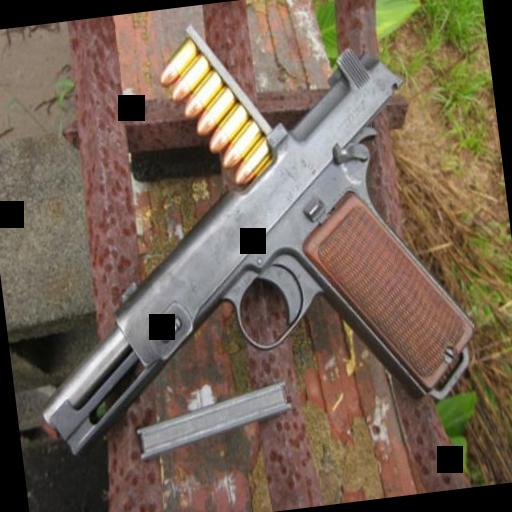Handgun: (0, 30, 487, 457)
